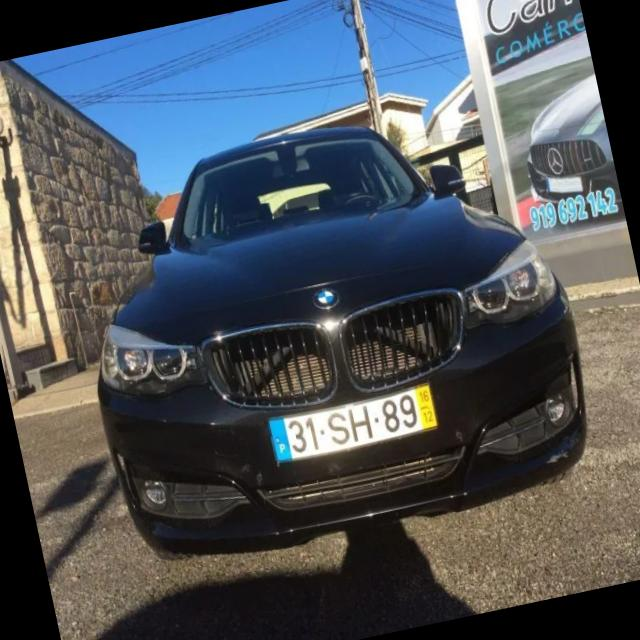portuguese-license-plates: (263, 375, 444, 472)
